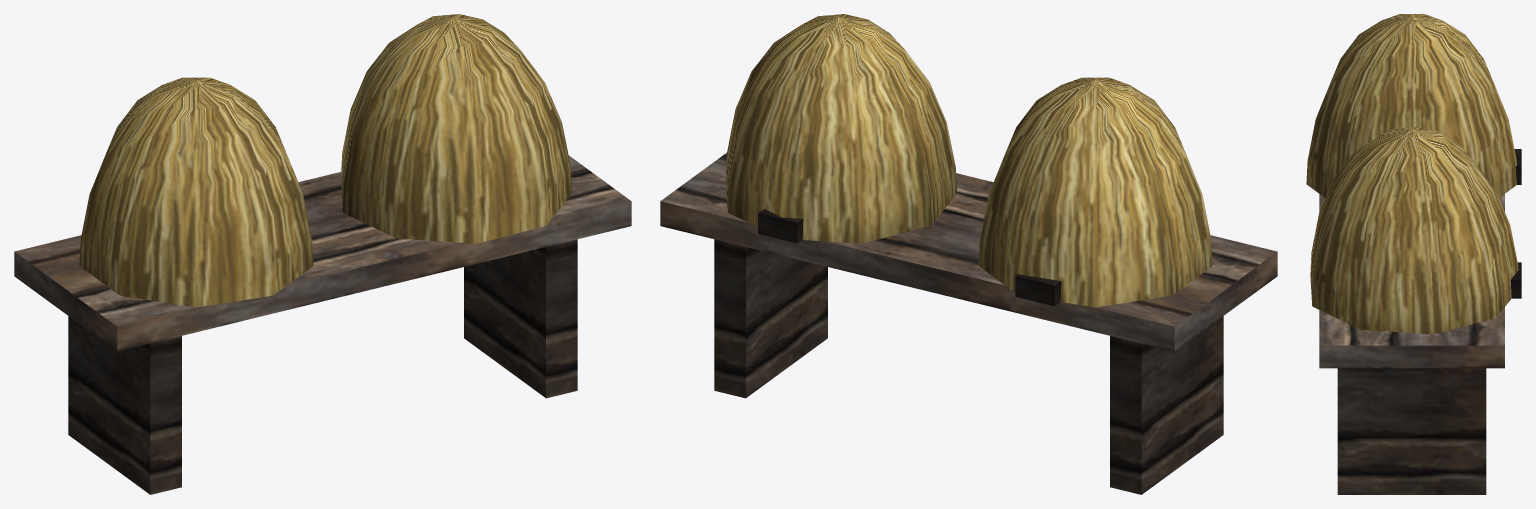
The model's file is beehive_skeps.glb.
The picture shows the model from 3 angles, left to right: view 1: azimuth 30°, elevation 25°; view 2: azimuth 150°, elevation 25°; view 3: azimuth 270°, elevation 25°; orthographic projection. The views are drawn at different scales.
Visible parts, largest first — view 1: beehive_skeps; view 2: beehive_skeps; view 3: beehive_skeps.
Part boxes in pixels (x1=…): beehive_skeps: x1=14, y1=14, x2=631, y2=494; beehive_skeps: x1=660, y1=14, x2=1277, y2=494; beehive_skeps: x1=1306, y1=14, x2=1521, y2=494.
Size of the model in its own units: 1.3 by 0.88 by 0.5211.
Materials: 2 (2 with a texture image).
